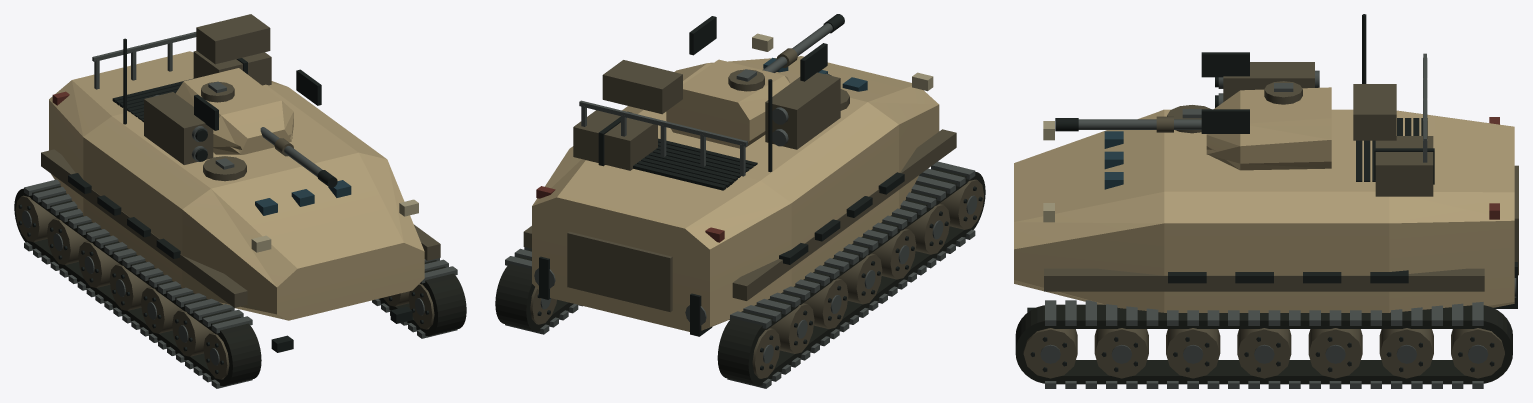
Rendered from ifv.glb.
3 views of the same model, side by side, from view 1: azimuth 30°, elevation 25°; view 2: azimuth 150°, elevation 25°; view 3: azimuth 270°, elevation 25° (orthographic). The views are drawn at different scales.
Visible parts, largest first — view 1: armor (×2), equipment (×4), glass; view 2: equipment (×4), armor (×2), glass; view 3: armor (×2), equipment (×4), glass.
Part boxes in pixels (x1,y1,x2,y2): armor (×2): (49, 51, 424, 320); equipment (×4): (14, 14, 466, 388); glass: (255, 180, 351, 215); equipment (×4): (495, 14, 985, 388); armor (×2): (532, 56, 939, 331); glass: (763, 57, 867, 91); armor (×2): (1014, 87, 1514, 312); equipment (×4): (1015, 14, 1518, 388); glass: (1104, 131, 1123, 189).
Bounding box in the file's own units: 3.31 × 3.06 × 5.24.
